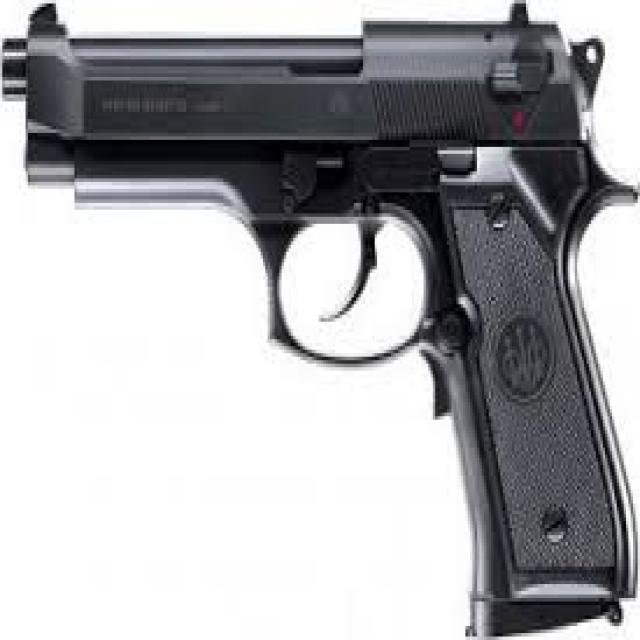pistol: (1, 1, 640, 638)
